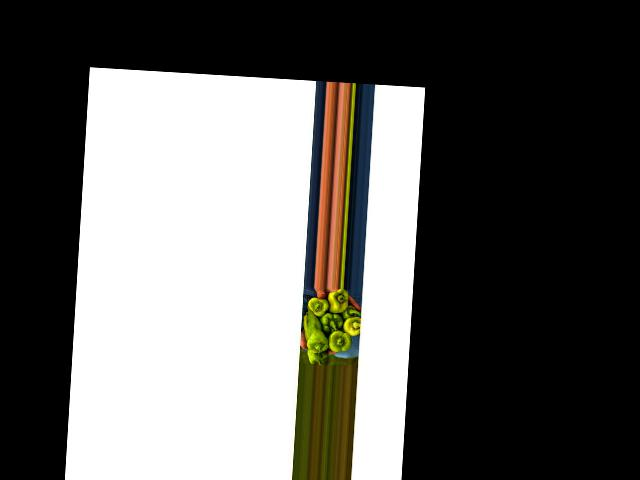bell_pepper: (328, 289, 351, 315)
